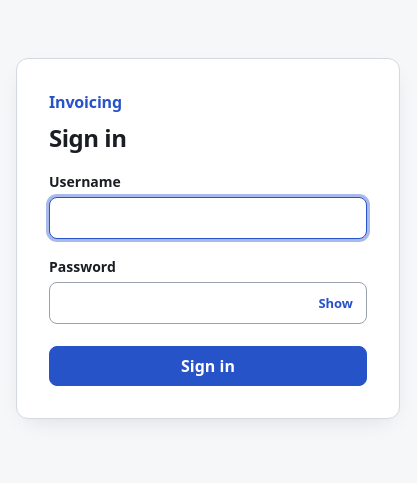
Test: LoginPage › shows a generic message for unexpected errors
Type "alice" into the field labelled "Username".
click(208, 218); type("alice")  # box [49,196,367,238]
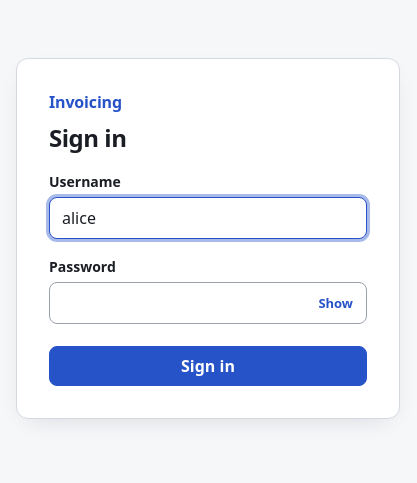
Type "secret" into the password field labelled "Password".
click(208, 302); type("secret")  # box [49,282,367,324]
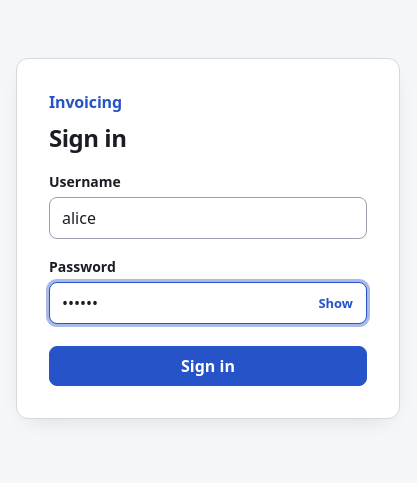
Click the button "Sign in".
click(208, 366)  # box [49,346,367,386]
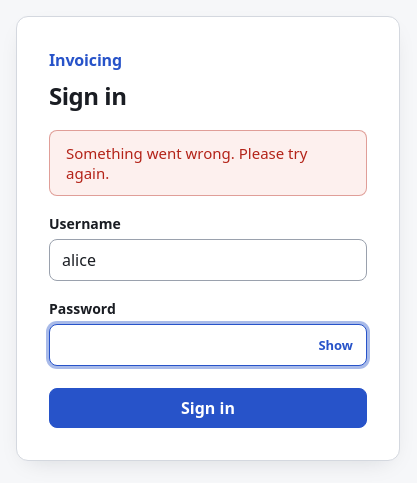
expect the message reads "Something went wrong. Please try again.": met, box [66,142,307,182]
